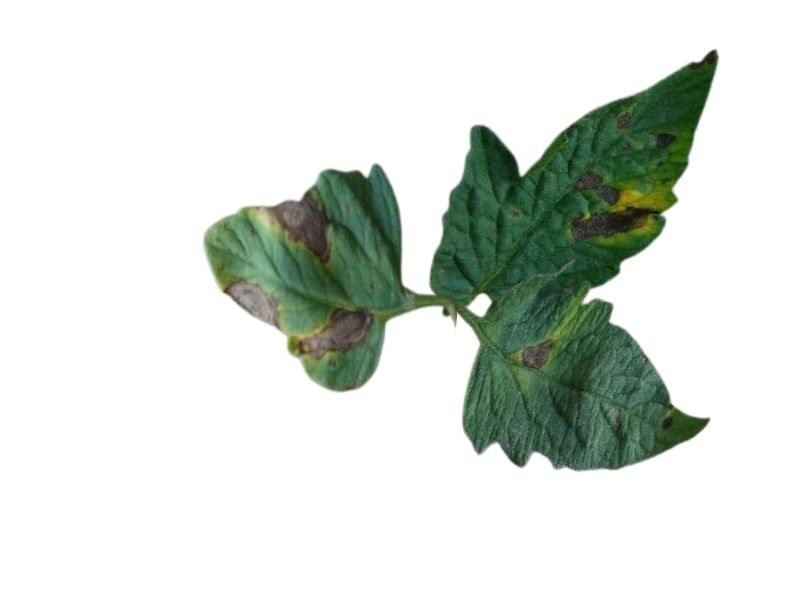Early_blight: (564, 170, 662, 241), (265, 189, 331, 264), (297, 302, 373, 360), (219, 276, 280, 333), (517, 339, 554, 370), (655, 130, 676, 150), (616, 111, 631, 129), (660, 413, 674, 432)
